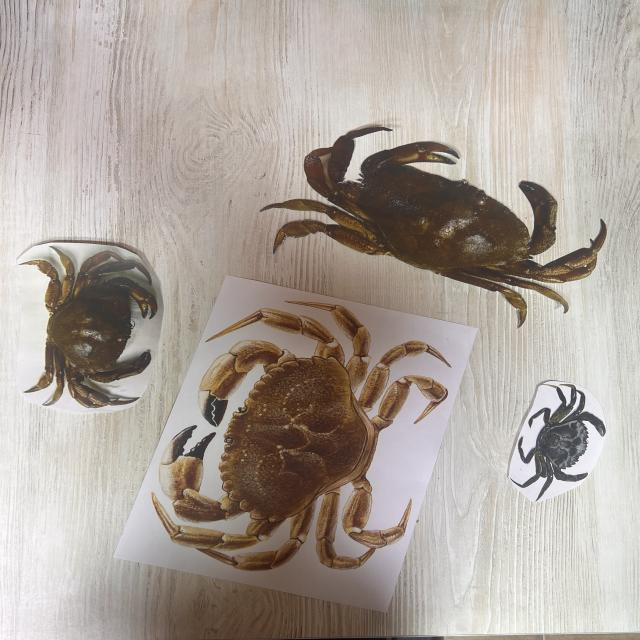European_Green_Crab: (498, 378, 620, 511)
